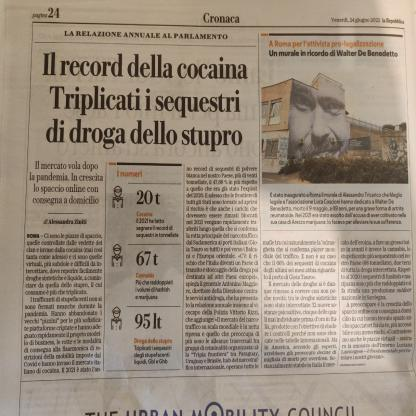immagine: (259, 58, 409, 186), (106, 160, 183, 375)
testo_col: (185, 160, 261, 380), (23, 230, 103, 379), (260, 237, 339, 375), (339, 236, 414, 362)
titolo: (32, 50, 254, 158)
